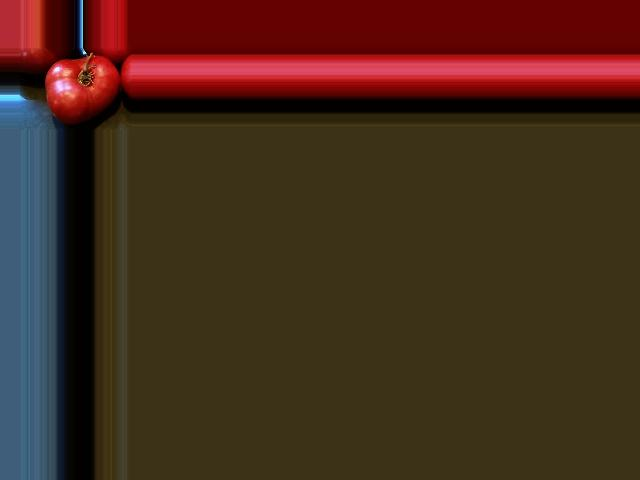tomato: (45, 55, 120, 124)
